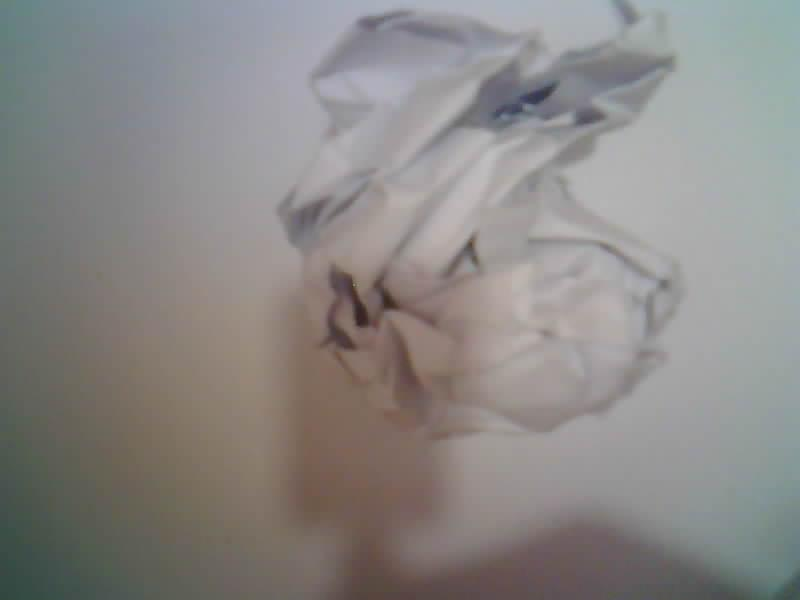biodegradable: (279, 0, 682, 434)
